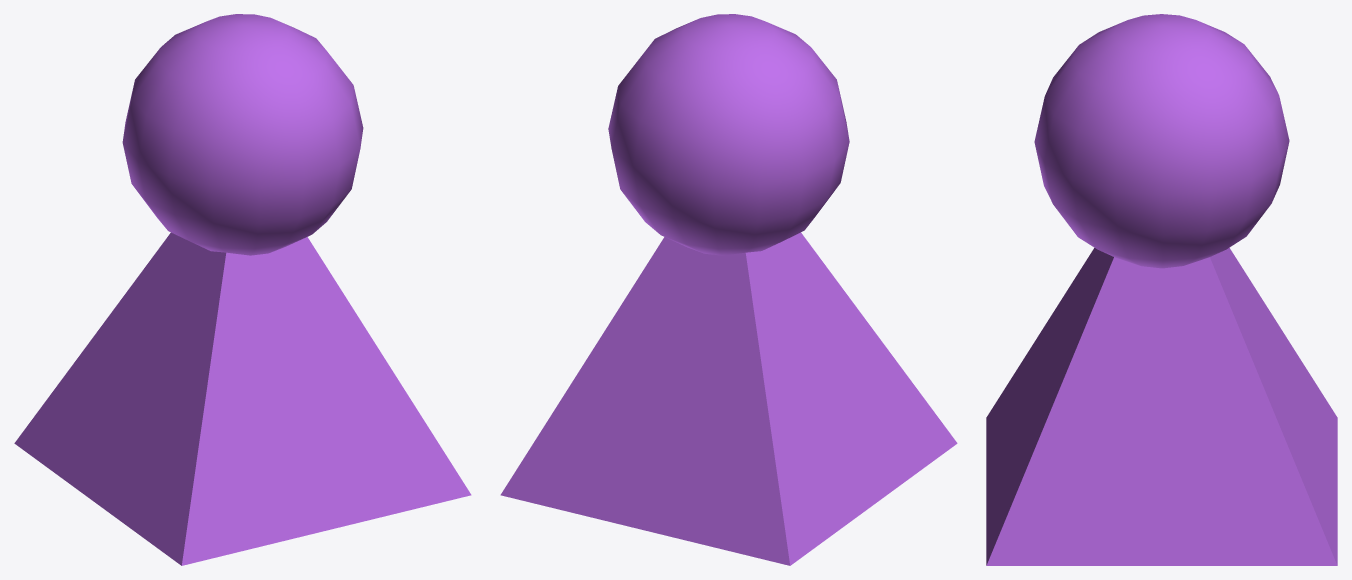
Rendered from tree.gltf.
The picture shows the model from 3 angles, left to right: view 1: azimuth 30°, elevation 25°; view 2: azimuth 150°, elevation 25°; view 3: azimuth 270°, elevation 25°; orthographic projection. The views are drawn at different scales.
Size of the model in its own units: 1057 by 1548 by 1057.
